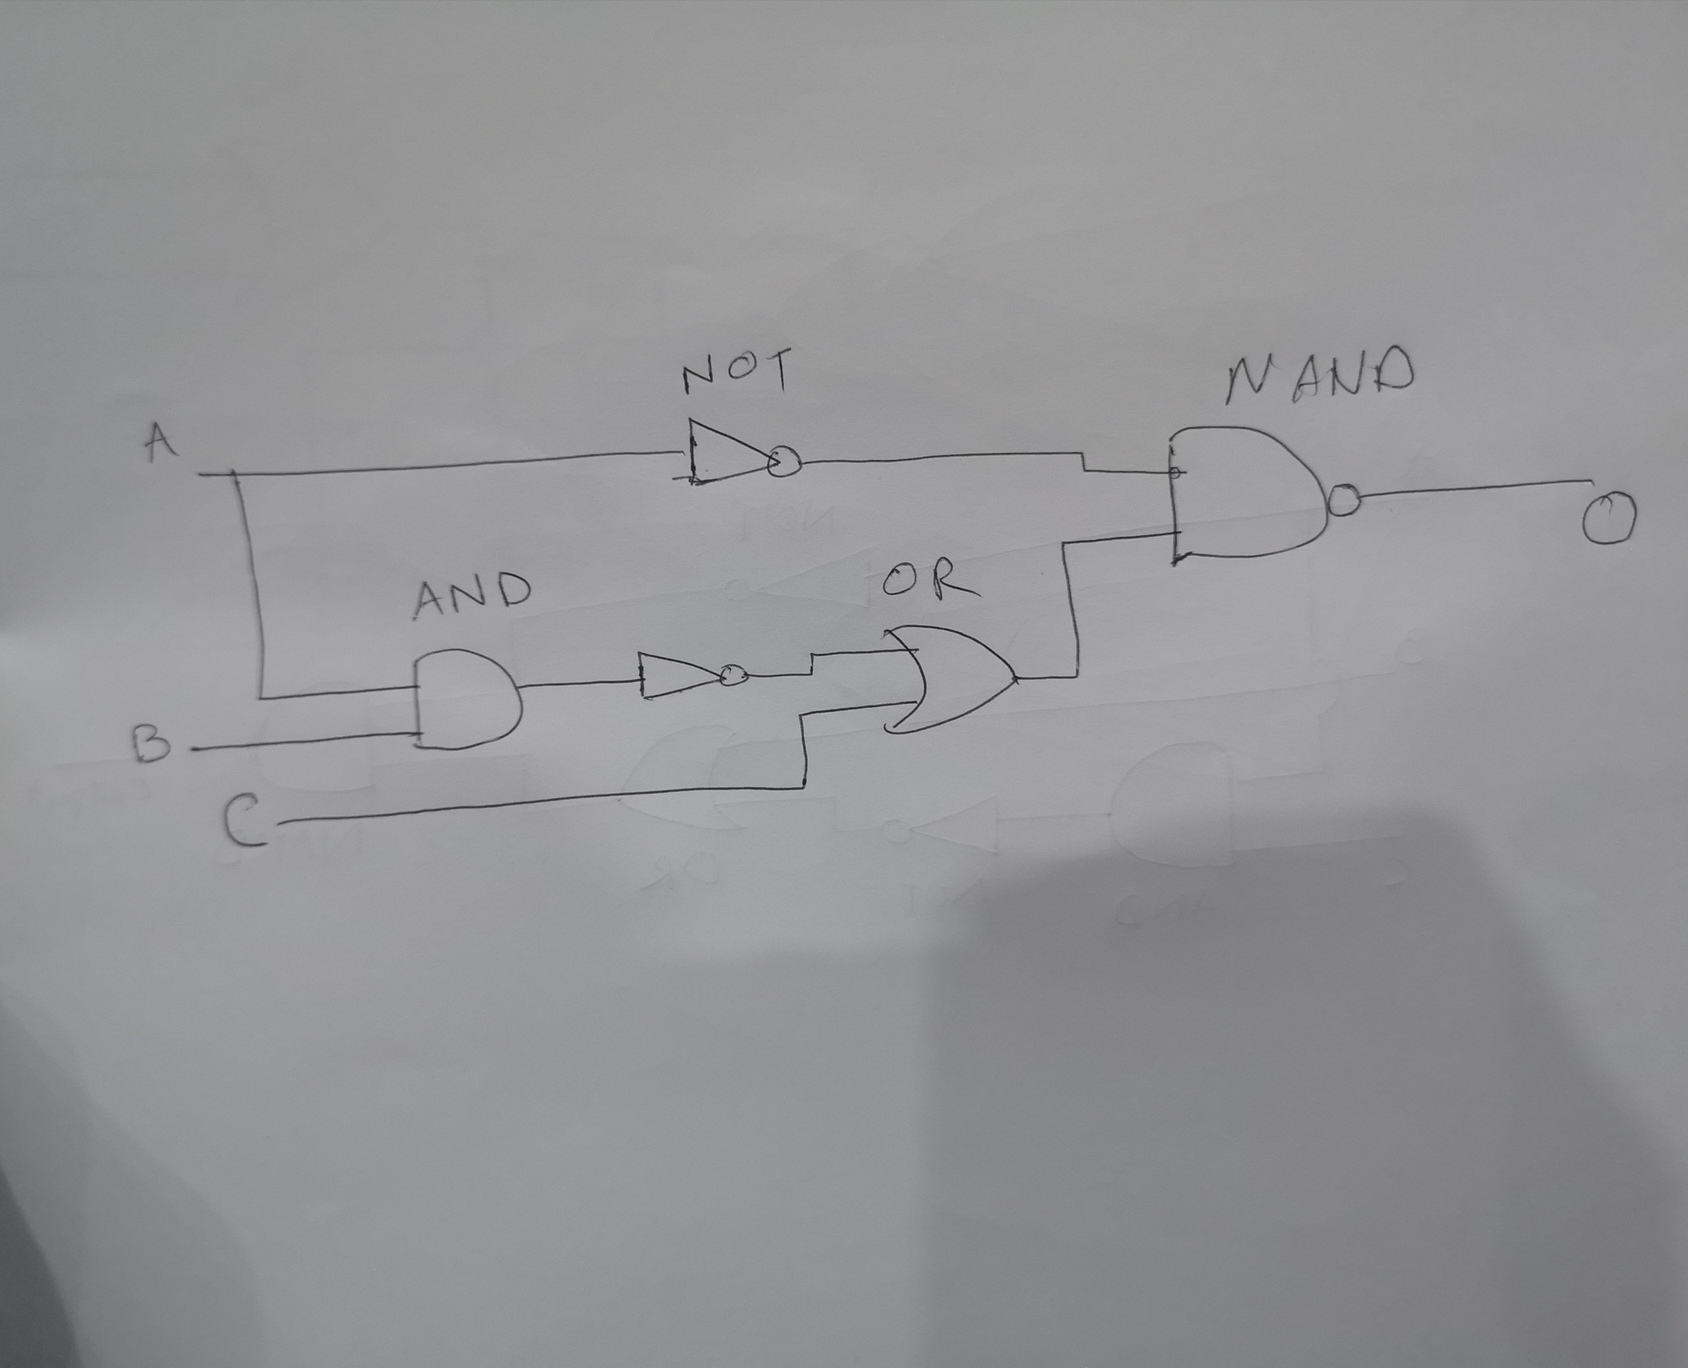and: (408, 639, 528, 759)
junction: (1051, 533, 1076, 556), (792, 776, 814, 798), (223, 463, 247, 484), (790, 706, 808, 724), (1067, 666, 1085, 683), (251, 690, 267, 706), (801, 666, 817, 681), (1076, 463, 1092, 476), (1075, 447, 1090, 459), (806, 649, 818, 662)
nand: (1159, 415, 1377, 574)
not: (666, 413, 814, 493), (630, 644, 753, 706)
or: (873, 618, 1028, 741)
terminal: (268, 811, 288, 835), (188, 465, 208, 486), (182, 738, 202, 757), (1580, 470, 1599, 489)
text: (1217, 342, 1419, 410), (674, 342, 799, 408), (409, 565, 536, 618), (873, 556, 979, 606), (1576, 486, 1648, 550), (218, 785, 274, 853), (127, 718, 177, 771), (141, 417, 184, 466)
